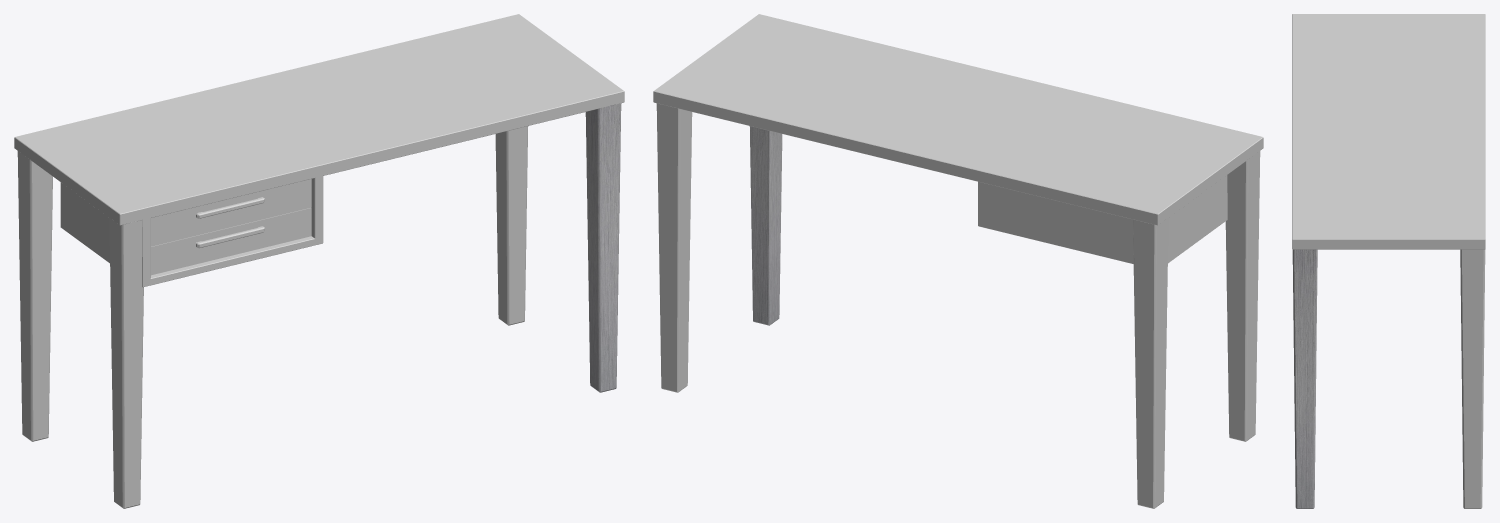
File: Desk.fbx
3 views of the same model, side by side, from view 1: azimuth 30°, elevation 25°; view 2: azimuth 150°, elevation 25°; view 3: azimuth 270°, elevation 25° (orthographic). The views are drawn at different scales.
Visible parts, largest first — view 1: Cube, Cube.005, Cube.002, Cube.001, Cube.003; view 2: Cube, Cube.001, Cube.003, Cube.002, Cube.005; view 3: Cube, Cube.003, Cube.005.
Boxes of the visible parts, bbox=[...] form: Cube: bbox=[14, 14, 624, 287]; Cube.005: bbox=[585, 103, 621, 392]; Cube.002: bbox=[109, 218, 143, 508]; Cube.001: bbox=[17, 151, 52, 441]; Cube.003: bbox=[495, 126, 528, 325]; Cube: bbox=[653, 14, 1263, 263]; Cube.001: bbox=[1133, 218, 1168, 508]; Cube.003: bbox=[656, 103, 692, 392]; Cube.002: bbox=[1225, 151, 1260, 441]; Cube.005: bbox=[749, 126, 782, 325]; Cube: bbox=[1292, 14, 1485, 249]; Cube.003: bbox=[1460, 249, 1485, 508]; Cube.005: bbox=[1292, 249, 1317, 508].
Bounding box in the file's own units: 1273 × 719 × 461.
1 material, 1 textured.
